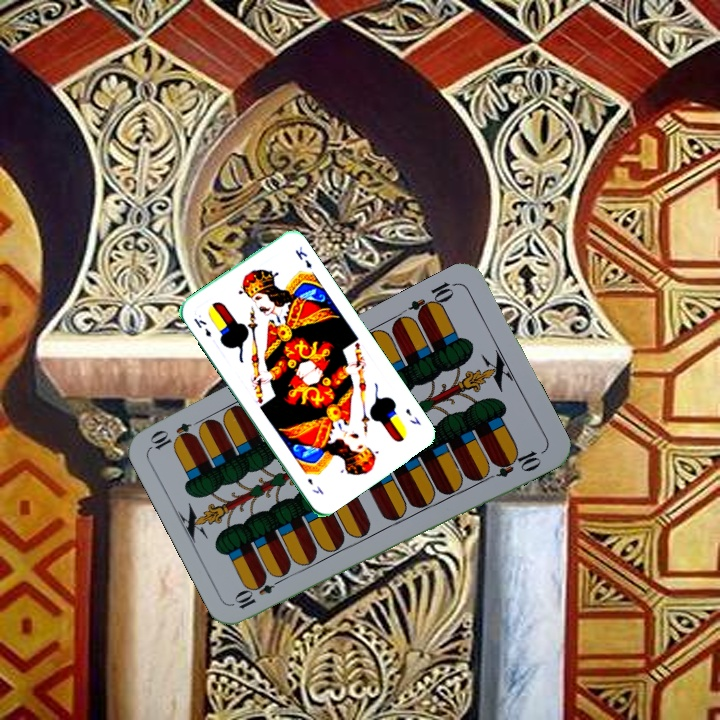E10: (405, 277, 460, 321), (231, 572, 287, 612)
EK: (190, 314, 214, 340), (402, 404, 423, 428)
